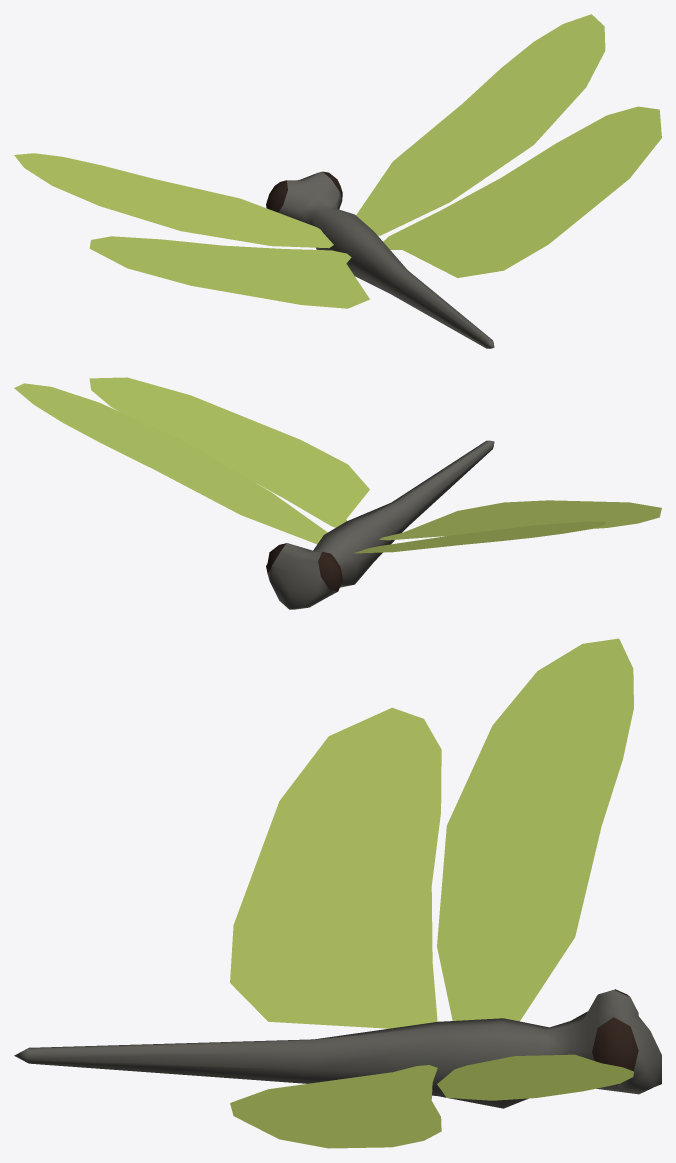
File: itch_assetquest_pond_dragonfly_3.glb
3 views of the same model, one above another, from view 1: azimuth 30°, elevation 25°; view 2: azimuth 150°, elevation 25°; view 3: azimuth 270°, elevation 25° (orthographic). The views are drawn at different scales.
Visible parts, largest first — view 1: Dragonfly_3; view 2: Dragonfly_3; view 3: Dragonfly_3.
Part boxes in pixels (left/top/right/bottom): Dragonfly_3: left=14, top=14, right=661, bottom=348; Dragonfly_3: left=14, top=377, right=661, bottom=609; Dragonfly_3: left=14, top=638, right=661, bottom=1148.
Bounding box in the file's own units: 0.42 × 0.1079 × 0.257.
